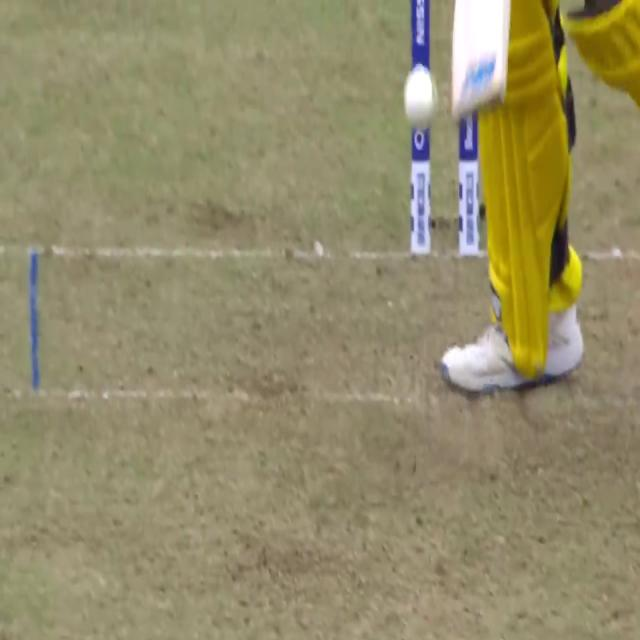ball: (394, 54, 442, 140)
